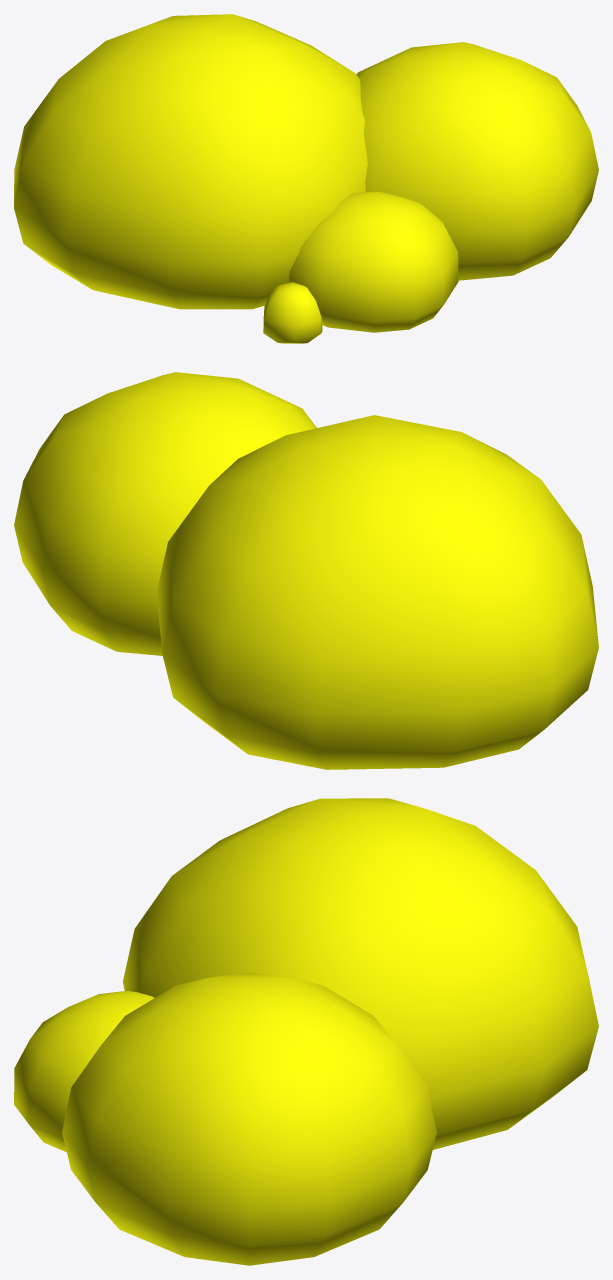
The model's file is kaykit-bush-1-f-color-1.glb.
The picture shows the model from 3 angles, top to bottom: view 1: azimuth 30°, elevation 25°; view 2: azimuth 150°, elevation 25°; view 3: azimuth 270°, elevation 25°; orthographic projection. The views are drawn at different scales.
Visible parts, largest first — view 1: Bush_1_F_Color1; view 2: Bush_1_F_Color1; view 3: Bush_1_F_Color1.
Boxes of the visible parts, x1,y1,x2,y2 form: Bush_1_F_Color1: (14, 14, 598, 343); Bush_1_F_Color1: (14, 372, 598, 769); Bush_1_F_Color1: (14, 798, 598, 1265).
Bounding box in the file's own units: 2.28 × 0.9938 × 1.88.
